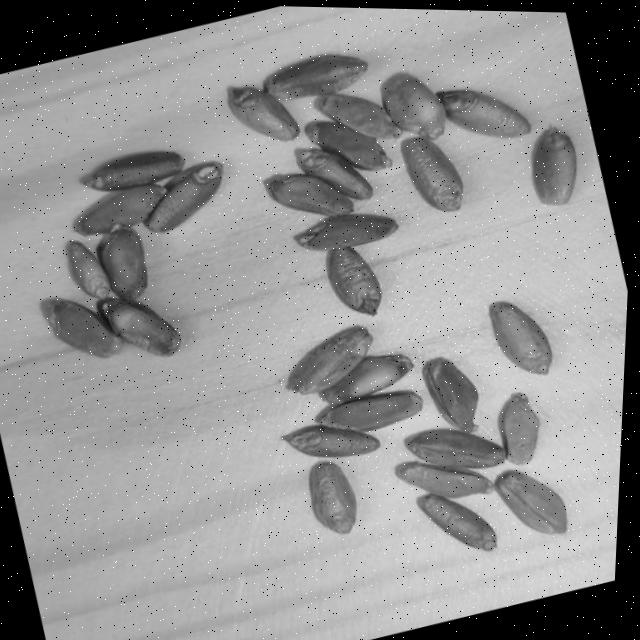wheat_grain: (286, 328, 367, 392), (149, 164, 221, 231), (40, 297, 120, 357), (101, 295, 181, 355), (494, 470, 566, 534), (401, 135, 463, 209), (416, 491, 496, 548), (489, 301, 550, 374), (76, 185, 165, 235), (267, 53, 368, 96), (439, 88, 528, 136), (308, 118, 388, 170), (422, 357, 478, 431), (382, 73, 445, 138), (326, 355, 412, 402), (318, 391, 417, 430), (228, 85, 298, 140), (405, 428, 502, 467), (84, 151, 182, 189), (267, 174, 354, 216), (397, 461, 492, 499), (298, 212, 394, 249), (328, 245, 380, 313), (297, 149, 369, 198), (99, 226, 146, 299), (308, 461, 355, 533), (531, 128, 575, 204), (284, 424, 376, 457), (66, 239, 111, 302), (499, 394, 538, 464)
